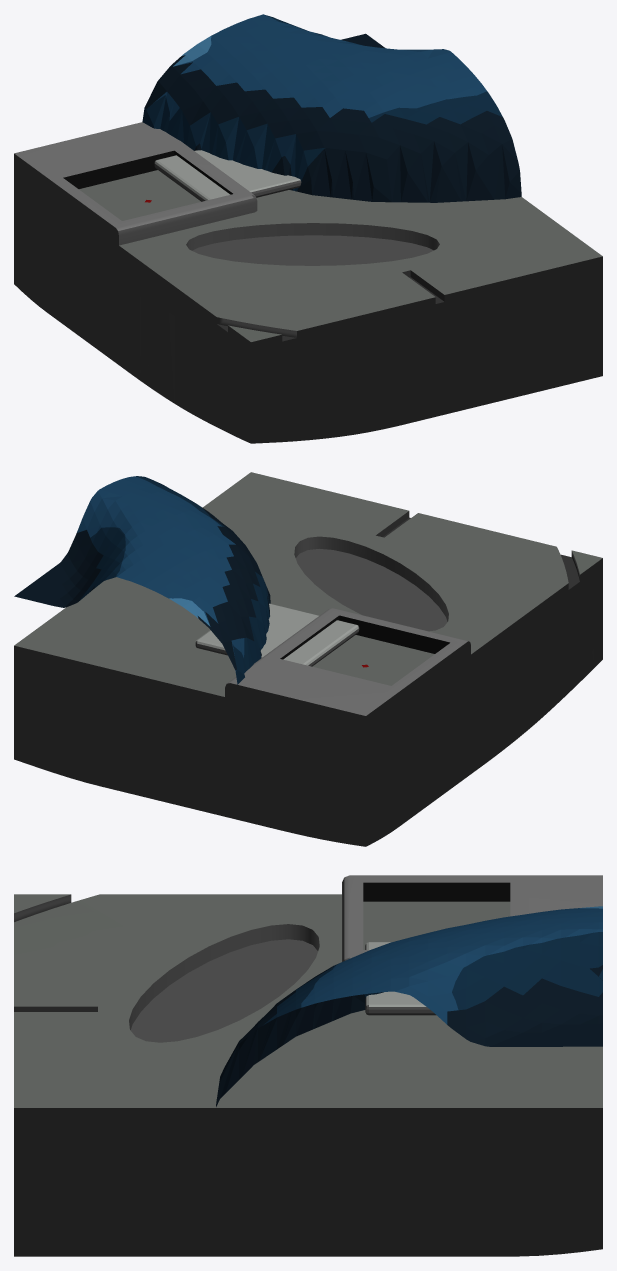
File: camanis_boss_271.glb
The picture shows the model from 3 angles, top to bottom: view 1: azimuth 30°, elevation 25°; view 2: azimuth 150°, elevation 25°; view 3: azimuth 270°, elevation 25°; orthographic projection. The views are drawn at different scales.
Parts seen in each view (by area): view 1: camanis_boss_271; view 2: camanis_boss_271; view 3: camanis_boss_271.
Part boxes in pixels (box(x1,y1,x2,y2)): camanis_boss_271: box(14, 14, 602, 443); camanis_boss_271: box(14, 472, 602, 846); camanis_boss_271: box(14, 875, 602, 1256).
Bounding box in the file's own units: 24 × 13.91 × 28.
